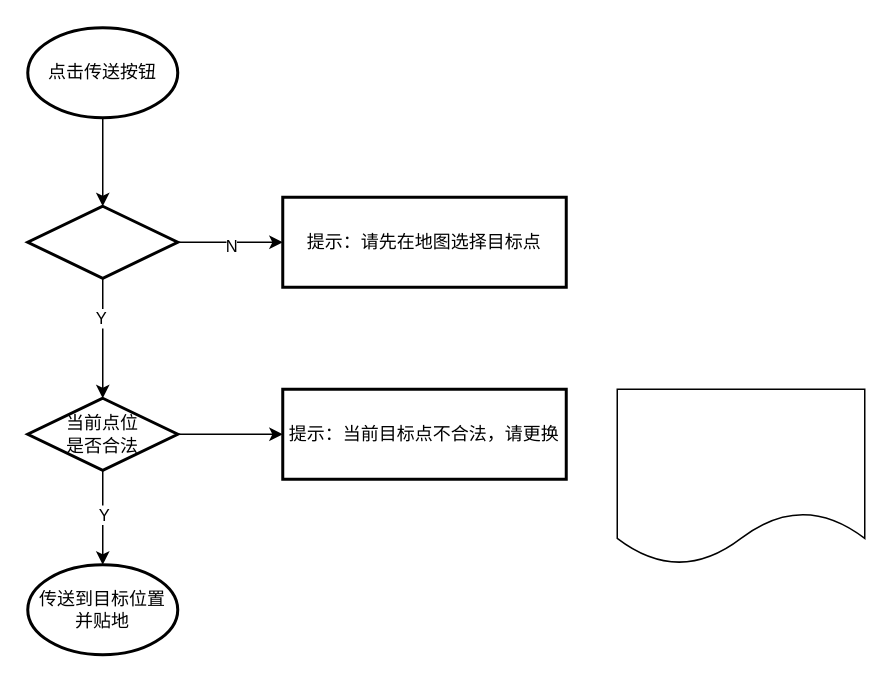
This 891x681 diagram has some shape labels left out. The shapes that lost their labels are listed below. From the top down, each one's box as (x1, y1, x2, y2) in pixels, then its label:
(26, 204, 178, 279): 是否已选点
(616, 388, 865, 565): 当前选点没有判断逻辑 可以选地图外空白处 所以需要在传送前判断 最起码保证有地面 或者最好是必须在路面上这种
